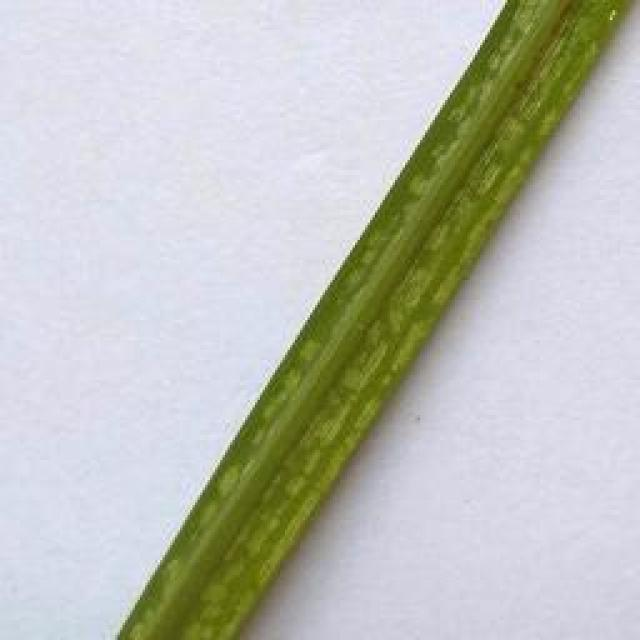Bacterial_Blight: (503, 0, 585, 115)
